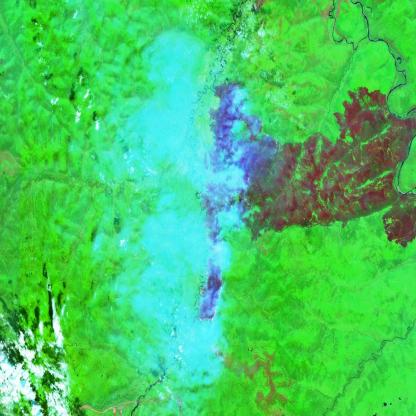fire: (196, 76, 283, 329)
